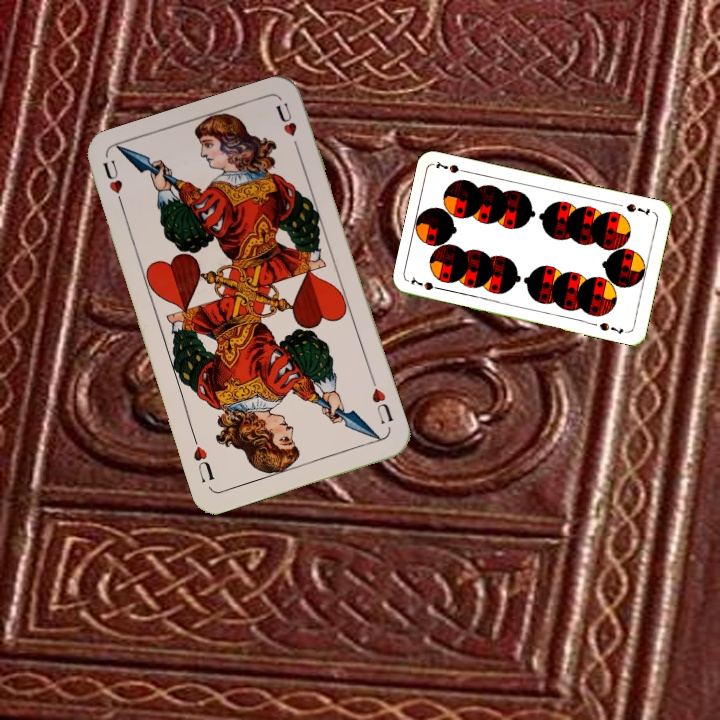HU: (98, 156, 127, 213), (368, 384, 396, 427)
S7: (407, 273, 446, 293), (622, 199, 652, 219)
